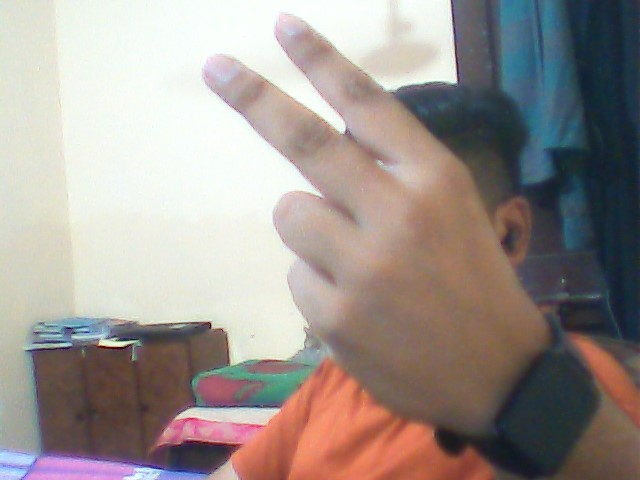Please: (192, 9, 529, 422)
